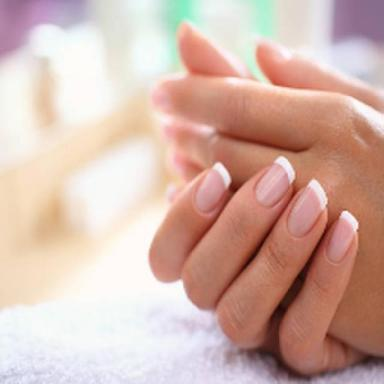normal skin: (149, 23, 384, 374)
